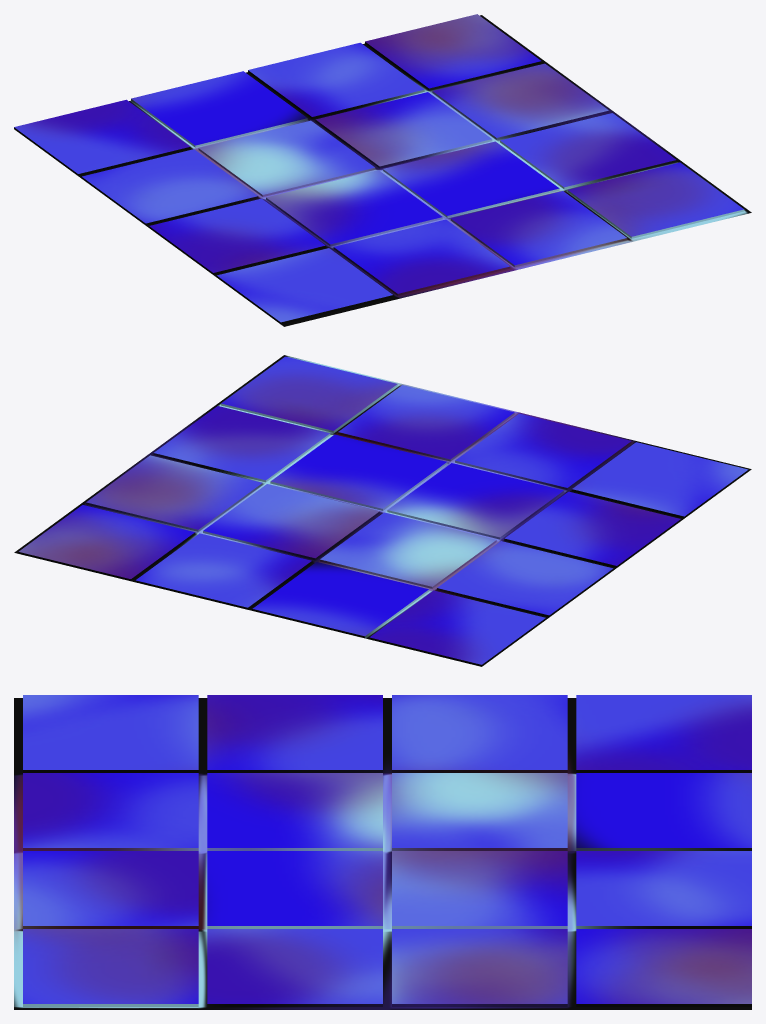
File: Piso_023.fbx
The picture shows the model from 3 angles, top to bottom: view 1: azimuth 30°, elevation 25°; view 2: azimuth 150°, elevation 25°; view 3: azimuth 270°, elevation 25°; orthographic projection. The views are drawn at different scales.
Parts seen in each view (by area): view 1: Plane; view 2: Plane; view 3: Plane.
Boxes of the visible parts, x1=… form: Plane: x1=14, y1=14, x2=751, y2=326; Plane: x1=14, y1=355, x2=751, y2=666; Plane: x1=14, y1=695, x2=751, y2=1009.
Size of the model in its own units: 600 by 2.51 by 600.
